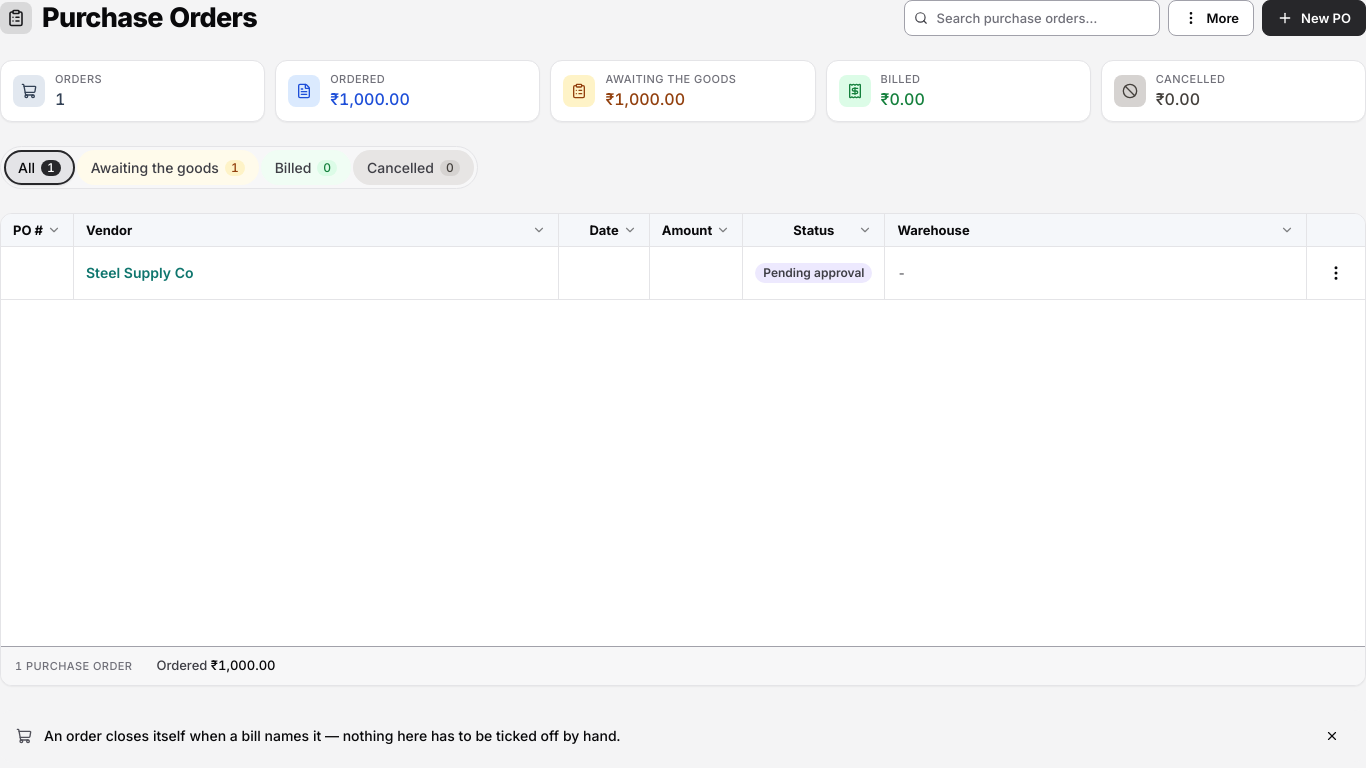
Scenario: printing a purchase order › puts the order on paper
The image size is (1366, 768).
Step 1. Click the button named "Actions for PO-5" → click(1336, 273), box [1319,256,1353,290]
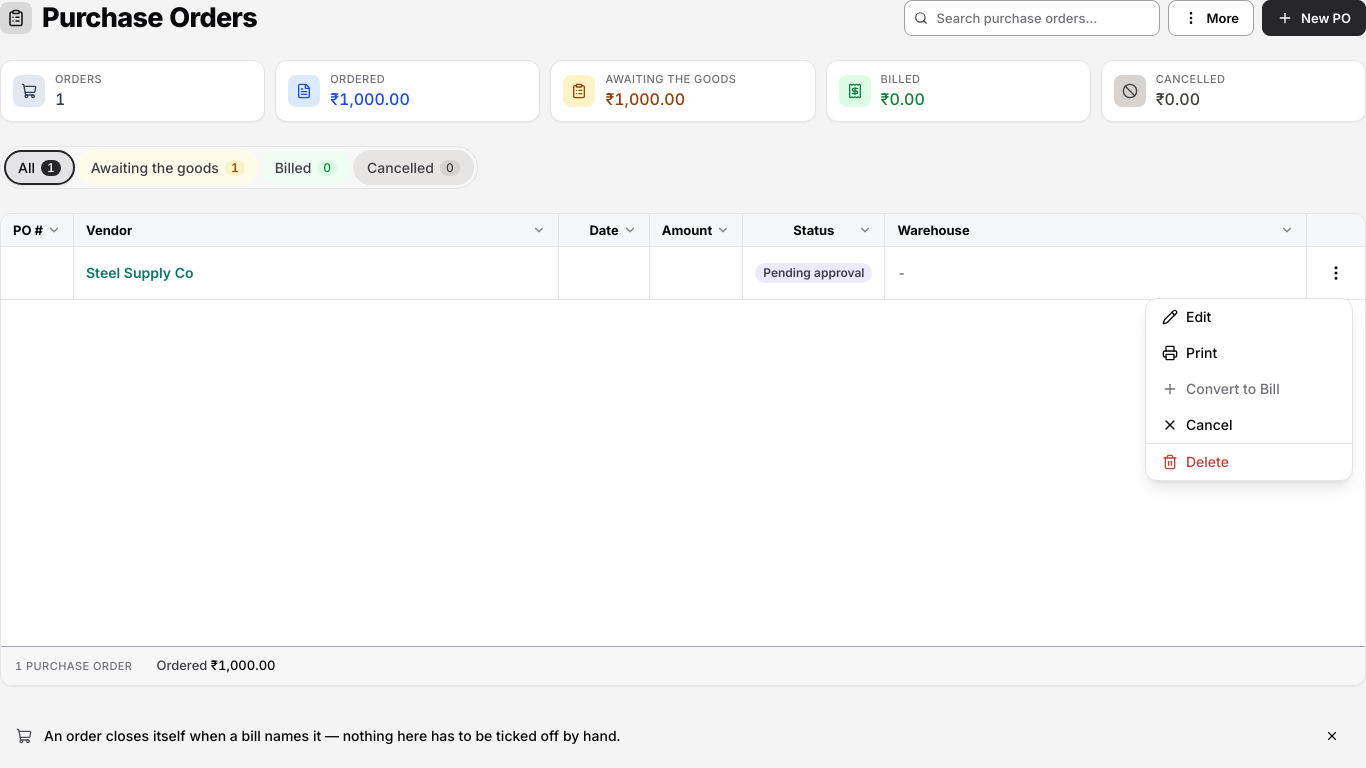
Step 2. Click the button with aria-label "Print purchase order PO-5" → click(1249, 353), box [1146,335,1352,371]
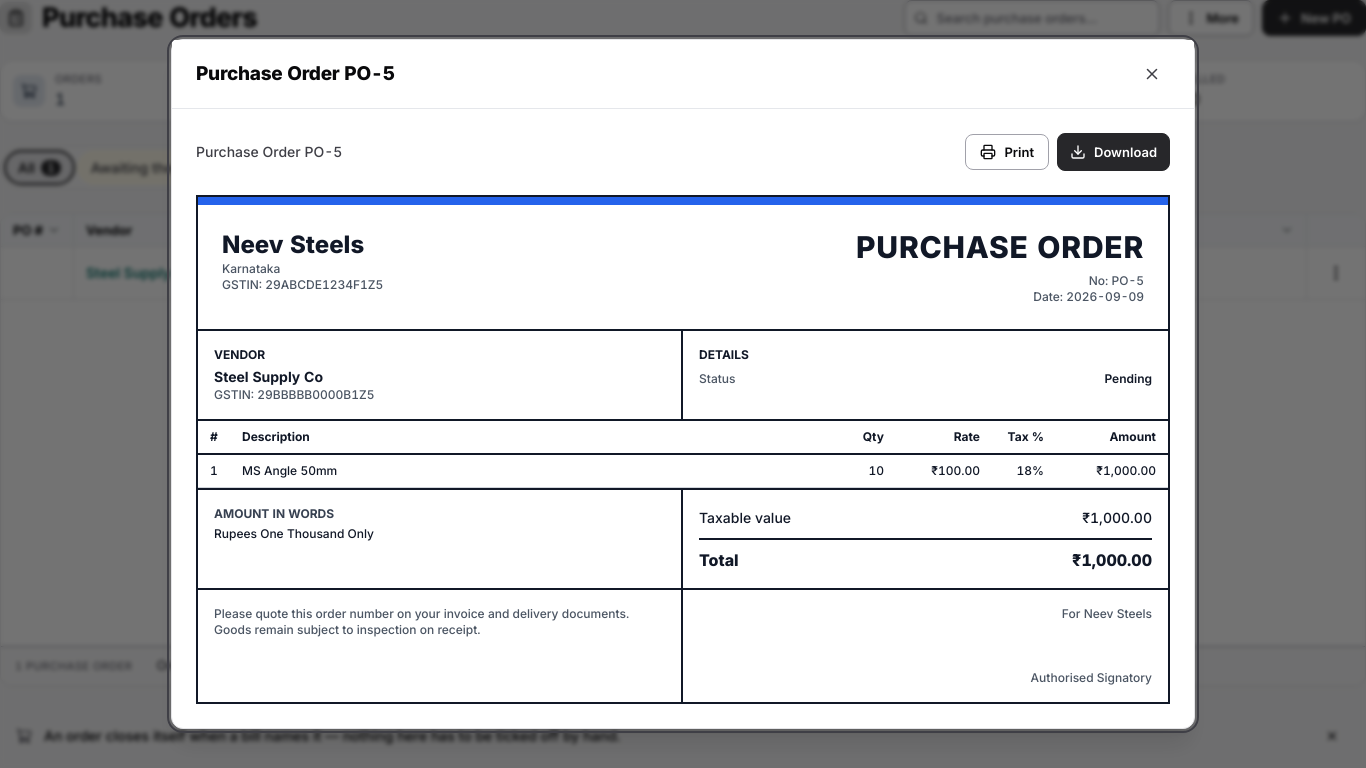
Check: the element that starts with "Neev Steels" is shown, box [196,195,1170,704]
Check: the text "PURCHASE ORDER" is shown, box [856,229,1144,265]
Check: the text "No: PO-5" is shown, box [1089,273,1144,288]
